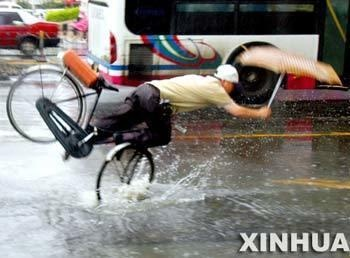falling: (74, 51, 271, 153)
